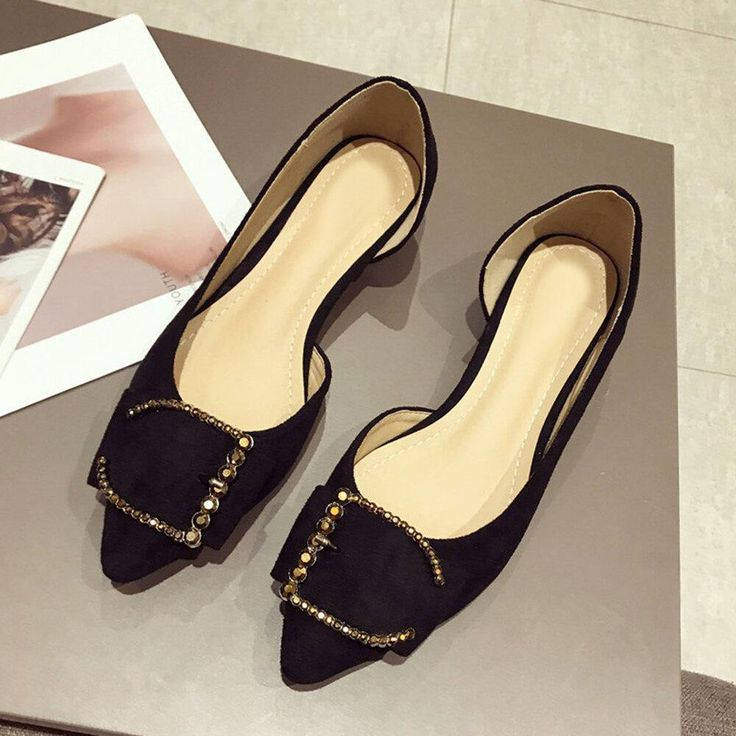gamuza: (87, 290, 540, 692)
